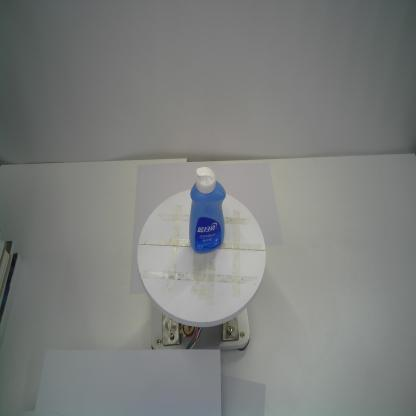Personal Hygiene: (188, 166, 226, 254)
